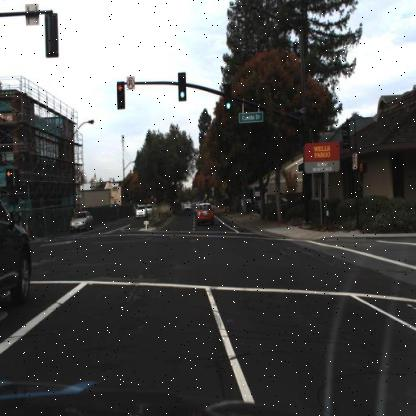car: (1, 196, 32, 312), (194, 199, 219, 227), (69, 209, 93, 235), (134, 204, 149, 220), (144, 203, 152, 219)
trafficLight-Green: (224, 82, 232, 112), (178, 72, 186, 100)
trafficLight-RedLeft: (116, 80, 125, 108), (6, 170, 13, 192)
